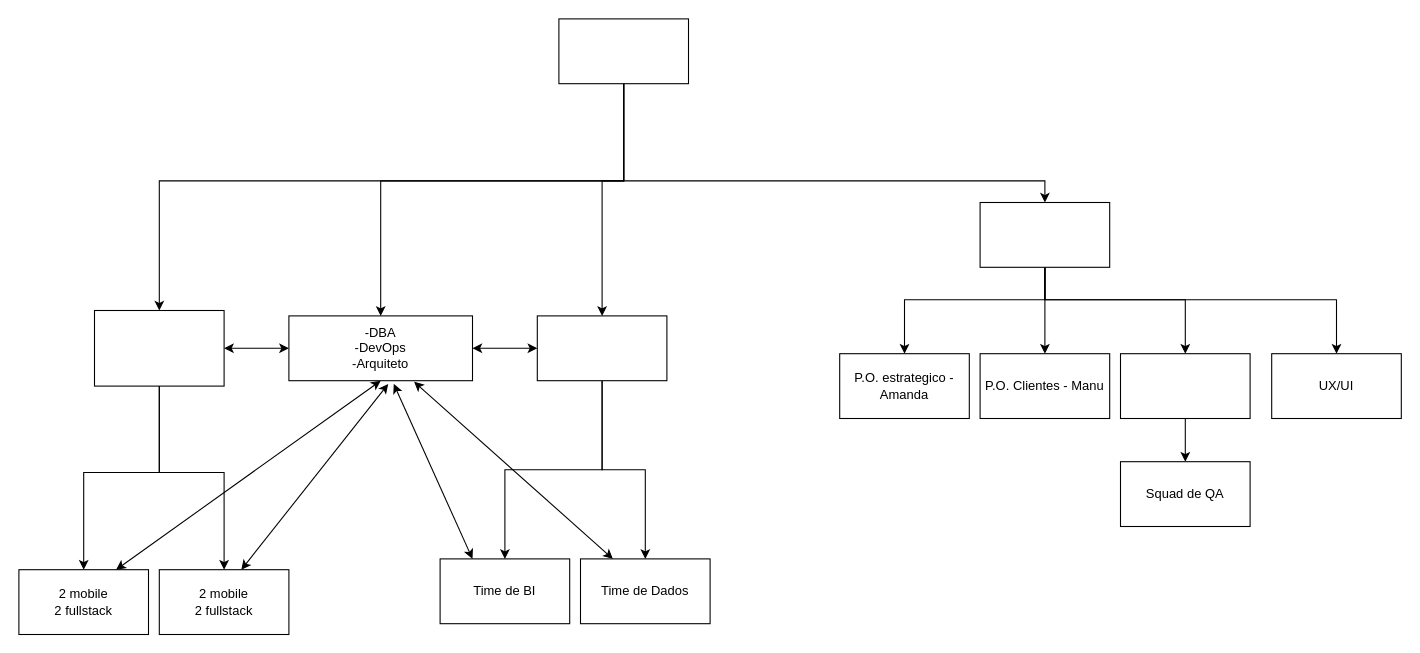
The diagram is 1420 pixels wide and 653 high, and some of its shapes have lost their labels. The centre of each missing label's shape, as x and y in pixels:
"CTO" belongs at (623,51).
"Líder Técnico de Dados" belongs at (601,348).
"Líder Técnico Dev." belongs at (158,347).
"Product Manager - Lucas" belongs at (1044,234).
"QA lead" belongs at (1184,385).
